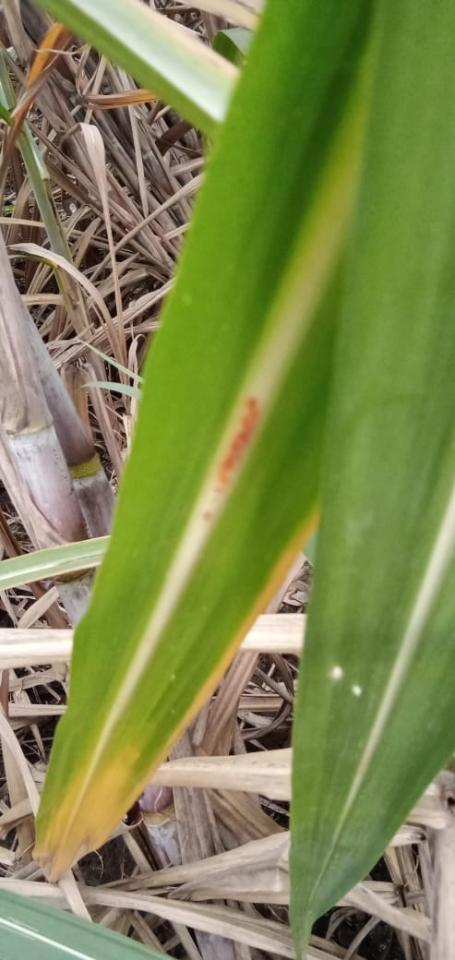RedRot: (213, 396, 260, 495), (201, 511, 212, 522)
Yellow: (50, 501, 319, 878), (46, 757, 91, 853)
